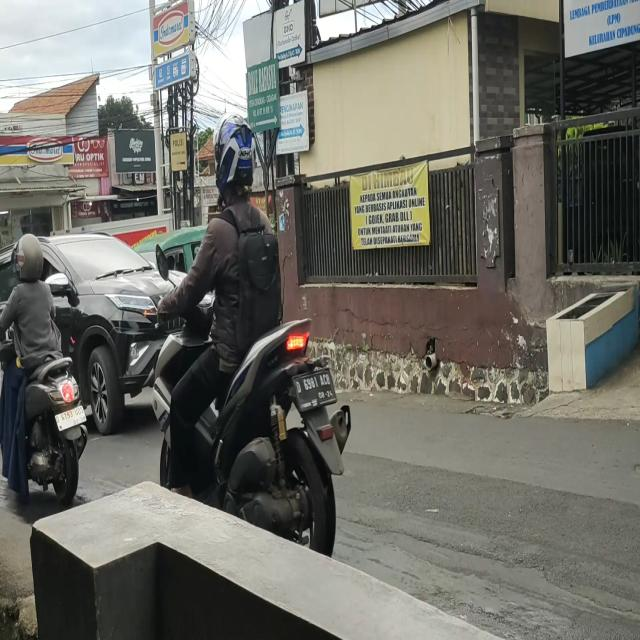helmet: (214, 117, 257, 197), (16, 232, 45, 285)
